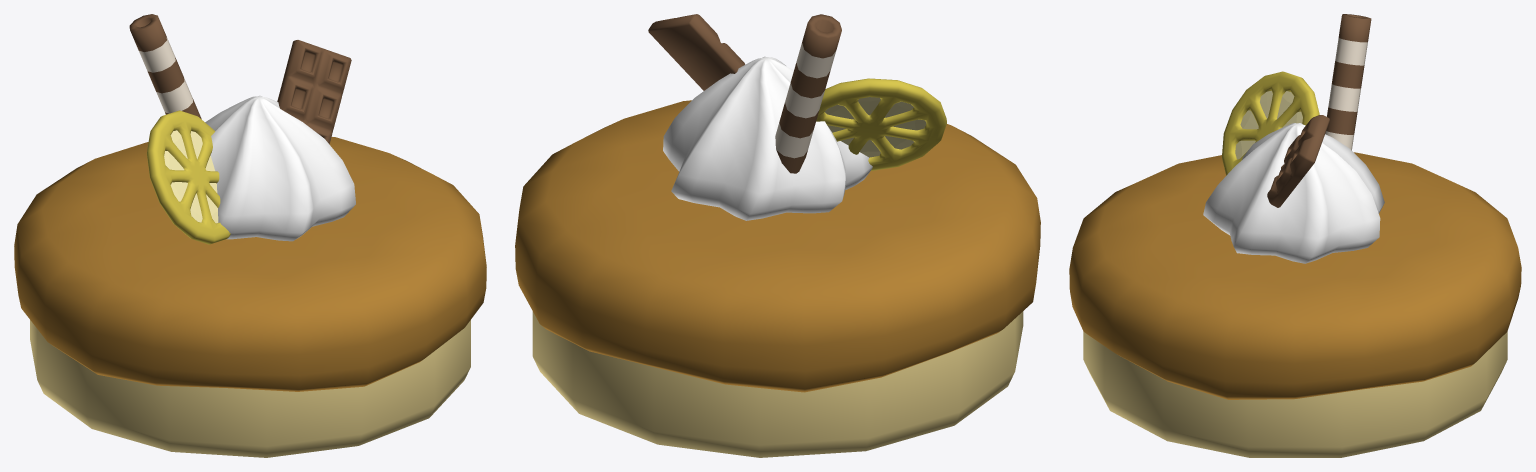
The model's file is Food_Cake_01_Lemon.glb.
The picture shows the model from 3 angles, left to right: view 1: azimuth 30°, elevation 25°; view 2: azimuth 150°, elevation 25°; view 3: azimuth 270°, elevation 25°; orthographic projection. The views are drawn at different scales.
Parts seen in each view (by area): view 1: SM_Food_Cake_01_Lemon_Frosting, SM_Food_Cake_01_Lemon_Base, SM_Food_Cake_01_Lemon_WhippedCream, SM_Food_Cake_01_Lemon_LemonSlice, SM_Food_Cake_01_Lemon_ChocolateBar, SM_Food_Cake_01_Lemon_ChocoRoll; view 2: SM_Food_Cake_01_Lemon_Frosting, SM_Food_Cake_01_Lemon_Base, SM_Food_Cake_01_Lemon_WhippedCream, SM_Food_Cake_01_Lemon_LemonSlice, SM_Food_Cake_01_Lemon_ChocoRoll, SM_Food_Cake_01_Lemon_ChocolateBar; view 3: SM_Food_Cake_01_Lemon_Frosting, SM_Food_Cake_01_Lemon_Base, SM_Food_Cake_01_Lemon_WhippedCream, SM_Food_Cake_01_Lemon_LemonSlice, SM_Food_Cake_01_Lemon_ChocoRoll, SM_Food_Cake_01_Lemon_ChocolateBar.
Part boxes in pixels (x1,y1,x2,y2): SM_Food_Cake_01_Lemon_Frosting: (14, 137, 486, 391); SM_Food_Cake_01_Lemon_Base: (30, 320, 470, 457); SM_Food_Cake_01_Lemon_WhippedCream: (205, 95, 355, 241); SM_Food_Cake_01_Lemon_LemonSlice: (146, 110, 230, 244); SM_Food_Cake_01_Lemon_ChocolateBar: (277, 40, 351, 144); SM_Food_Cake_01_Lemon_ChocoRoll: (129, 14, 201, 119); SM_Food_Cake_01_Lemon_Frosting: (515, 100, 1040, 392); SM_Food_Cake_01_Lemon_Base: (532, 311, 1023, 457); SM_Food_Cake_01_Lemon_WhippedCream: (663, 56, 872, 220); SM_Food_Cake_01_Lemon_LemonSlice: (816, 78, 946, 170); SM_Food_Cake_01_Lemon_ChocoRoll: (775, 14, 841, 173); SM_Food_Cake_01_Lemon_ChocolateBar: (648, 14, 744, 90); SM_Food_Cake_01_Lemon_Frosting: (1069, 152, 1521, 399); SM_Food_Cake_01_Lemon_Base: (1083, 331, 1507, 457); SM_Food_Cake_01_Lemon_WhippedCream: (1203, 123, 1384, 263); SM_Food_Cake_01_Lemon_LemonSlice: (1222, 71, 1319, 175); SM_Food_Cake_01_Lemon_ChocoRoll: (1325, 14, 1371, 150); SM_Food_Cake_01_Lemon_ChocolateBar: (1267, 115, 1329, 207).
Size of the model in its own units: 0.639 by 0.5184 by 0.6393.
Materials: 1 (1 with a texture image).
